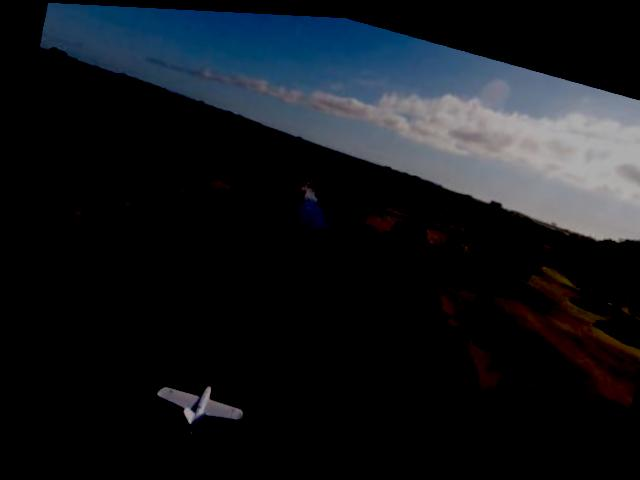uav: (144, 369, 247, 450)
